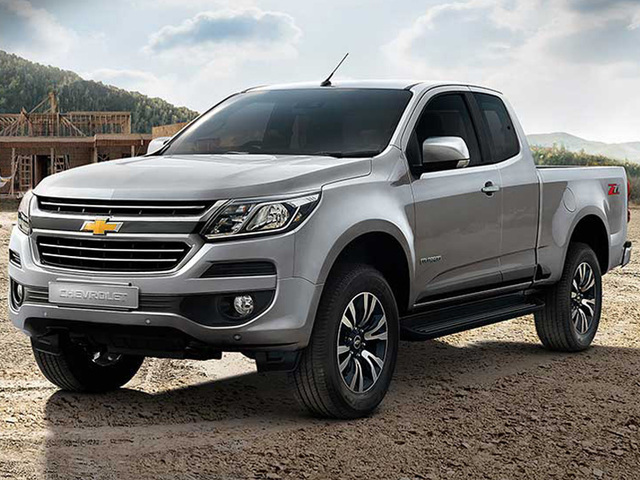pickup: (7, 79, 630, 421)
